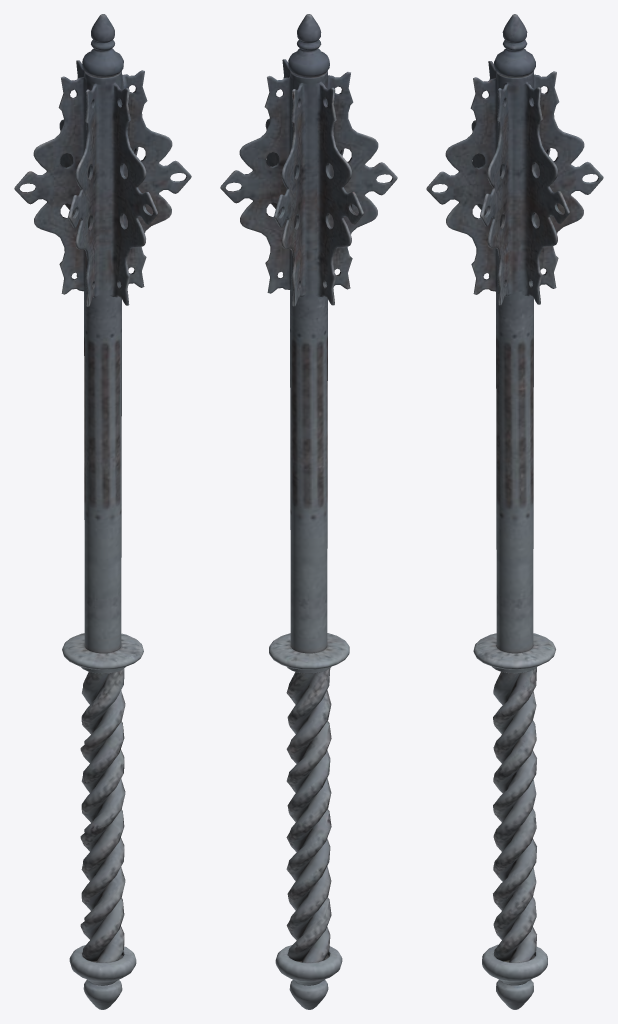
The model's file is ornate_medieval_mace.glb.
The picture shows the model from 3 angles, left to right: view 1: azimuth 30°, elevation 25°; view 2: azimuth 150°, elevation 25°; view 3: azimuth 270°, elevation 25°; orthographic projection.
Visible parts, largest first — view 1: ornate_medieval_mace; view 2: ornate_medieval_mace; view 3: ornate_medieval_mace.
Part boxes in pixels (bbox=[...]): ornate_medieval_mace: bbox=[14, 14, 191, 1009]; ornate_medieval_mace: bbox=[220, 14, 397, 1009]; ornate_medieval_mace: bbox=[426, 14, 603, 1009].
Size of the model in its own units: 0.0948 by 0.63 by 0.1017.
Materials: 1 (1 with a texture image).
